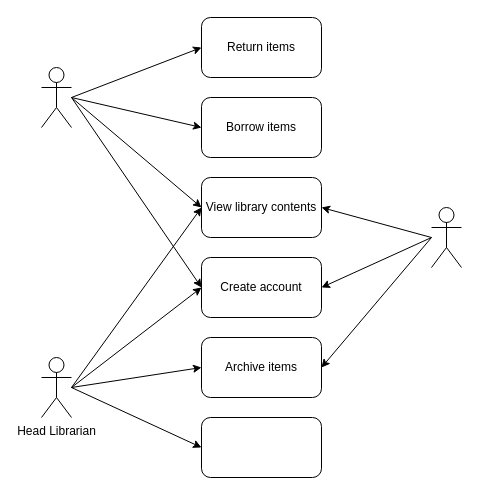
Some shapes in this 487 by 495 pixel diagram are drawn without their labels. The shapes that lost their labels are listed below. From the top down, each one's centre as x and y in pixels, then its label:
At [56,97]: "Patron".
At [446,237]: "Librarian".
At [261,447]: "Manage employment of librarians".
